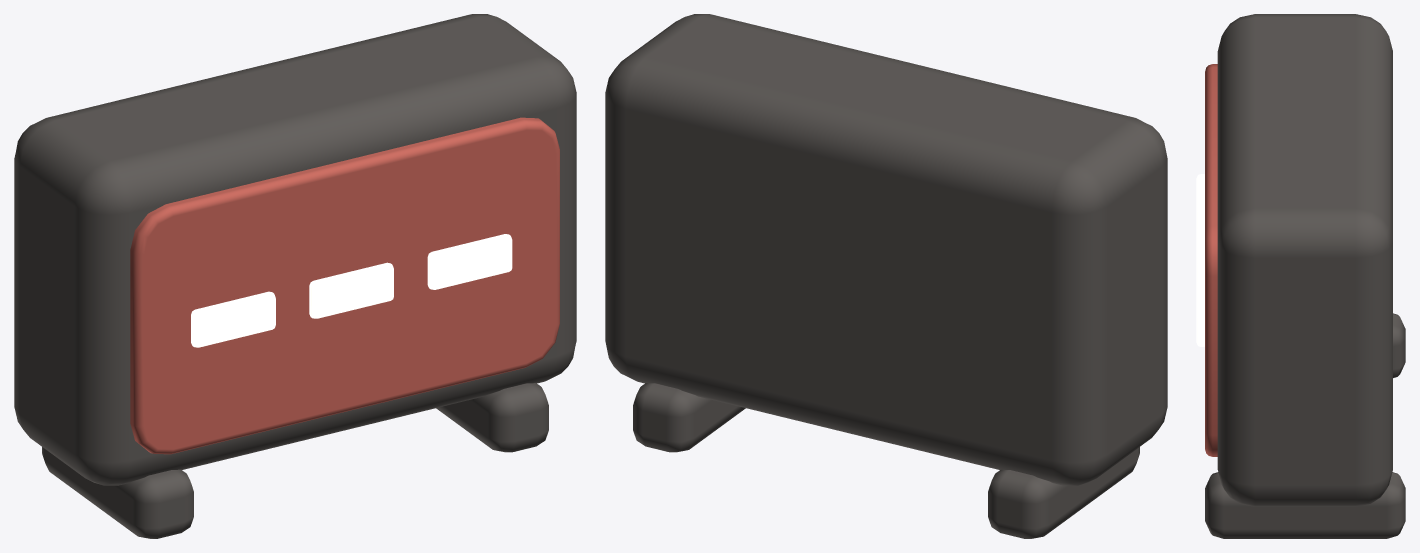
Rendered from backlit_box_sign.glb.
3 renders of one model, left to right at view 1: azimuth 30°, elevation 25°; view 2: azimuth 150°, elevation 25°; view 3: azimuth 270°, elevation 25°, orthographic. The views are drawn at different scales.
Parts seen in each view (by area): view 1: backlit_box_sign_mesh; view 2: backlit_box_sign_mesh; view 3: backlit_box_sign_mesh.
Part boxes in pixels (left/top/right/bottom): backlit_box_sign_mesh: left=14, top=14, right=576, bottom=538; backlit_box_sign_mesh: left=605, top=14, right=1167, bottom=538; backlit_box_sign_mesh: left=1196, top=14, right=1405, bottom=538.
Bounding box in the file's own units: 0.42 × 0.3 × 0.167.
